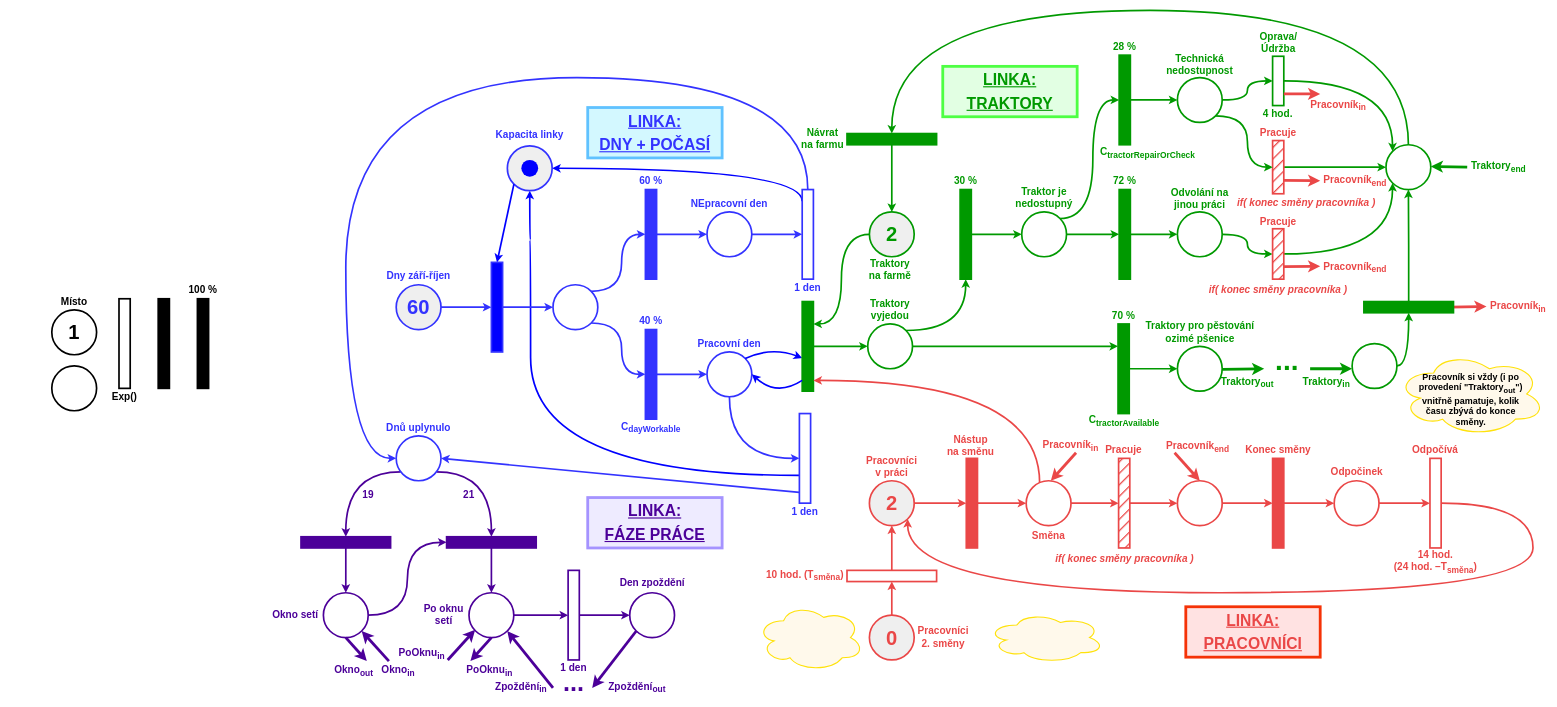
The diagram is 1557 pixels wide and 707 high, and some of its shapes have lost their labels. Each missing label, with the centre of its shape:
T směna = 10 hod.: the point at 1045,637
Umožňuje modelovat 2směnný provoz: the point at 810,637
